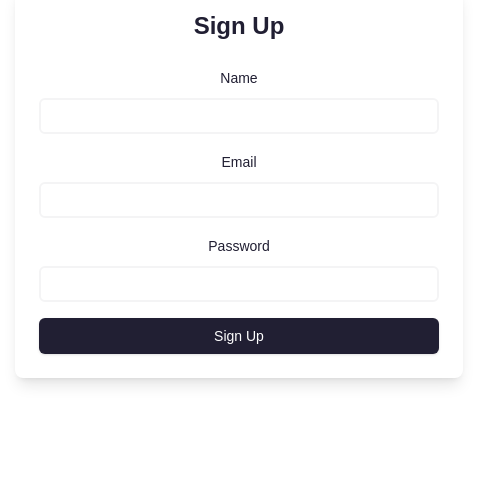
Test case: SignUpForm Component › Form Validation › shows validation errors when submitting empty form
This screenshot has width=479, height=486.
What coordinates should you click on to do the following:
click the button "Sign Up"
I would click on:
 (239, 336)
Its box is [39,318,439,354].
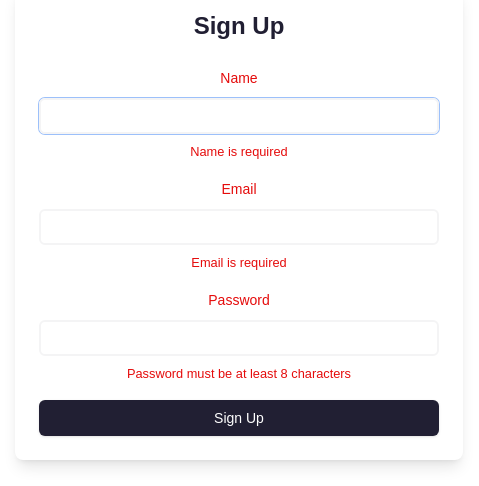
Check: the text "Name is required" is shown, box [190,144,288,159]
Check: the text "Email is required" is shown, box [191,255,287,270]
Check: the text "Password must be at least 8 characters" is shown, box [127,366,351,381]
